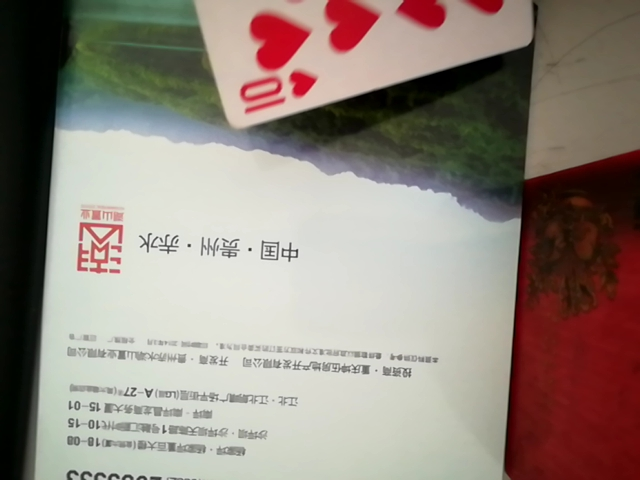hx 10: (183, 0, 539, 135)
